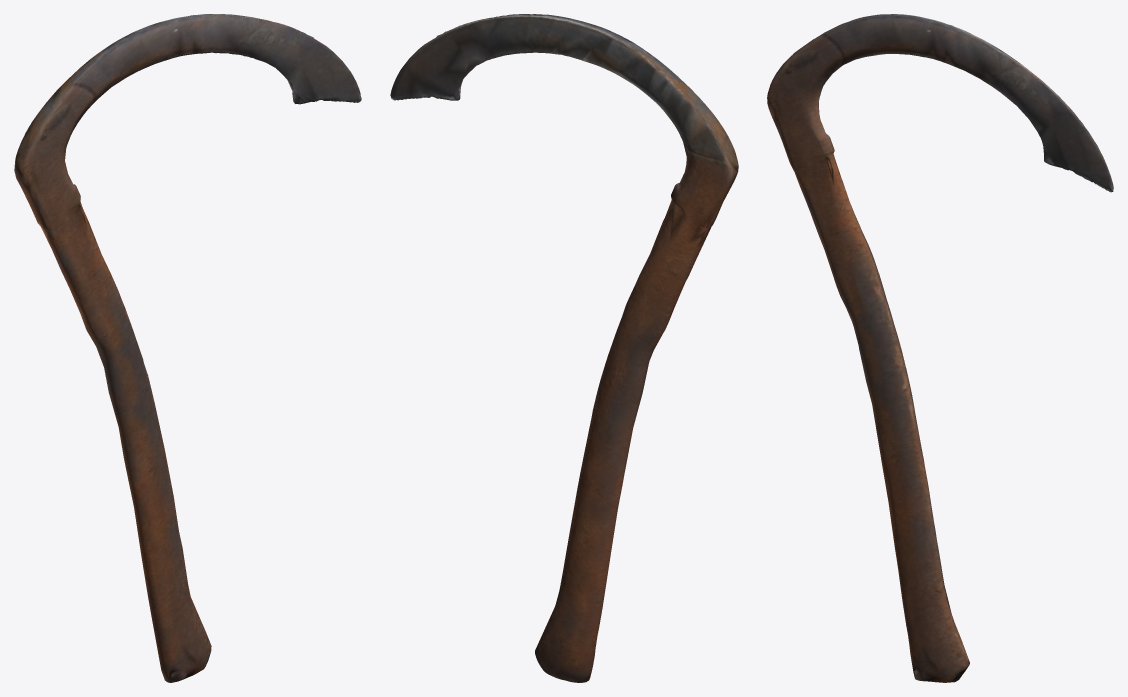
File: 1726_sickle.glb
3 renders of one model, left to right at view 1: azimuth 30°, elevation 25°; view 2: azimuth 150°, elevation 25°; view 3: azimuth 330°, elevation 25°, orthographic.
Parts seen in each view (by area): view 1: Model; view 2: Model; view 3: Model.
Part boxes in pixels (left/top/right/bottom): Model: left=14, top=14, right=361, bottom=682; Model: left=390, top=14, right=738, bottom=682; Model: left=767, top=14, right=1113, bottom=682.
Bounding box in the file's own units: 0.5467 × 1 × 0.0411.
1 material, 1 textured.
